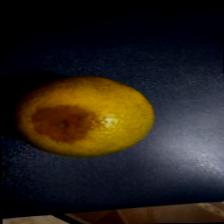Orange Rotten: (2, 68, 158, 168)
